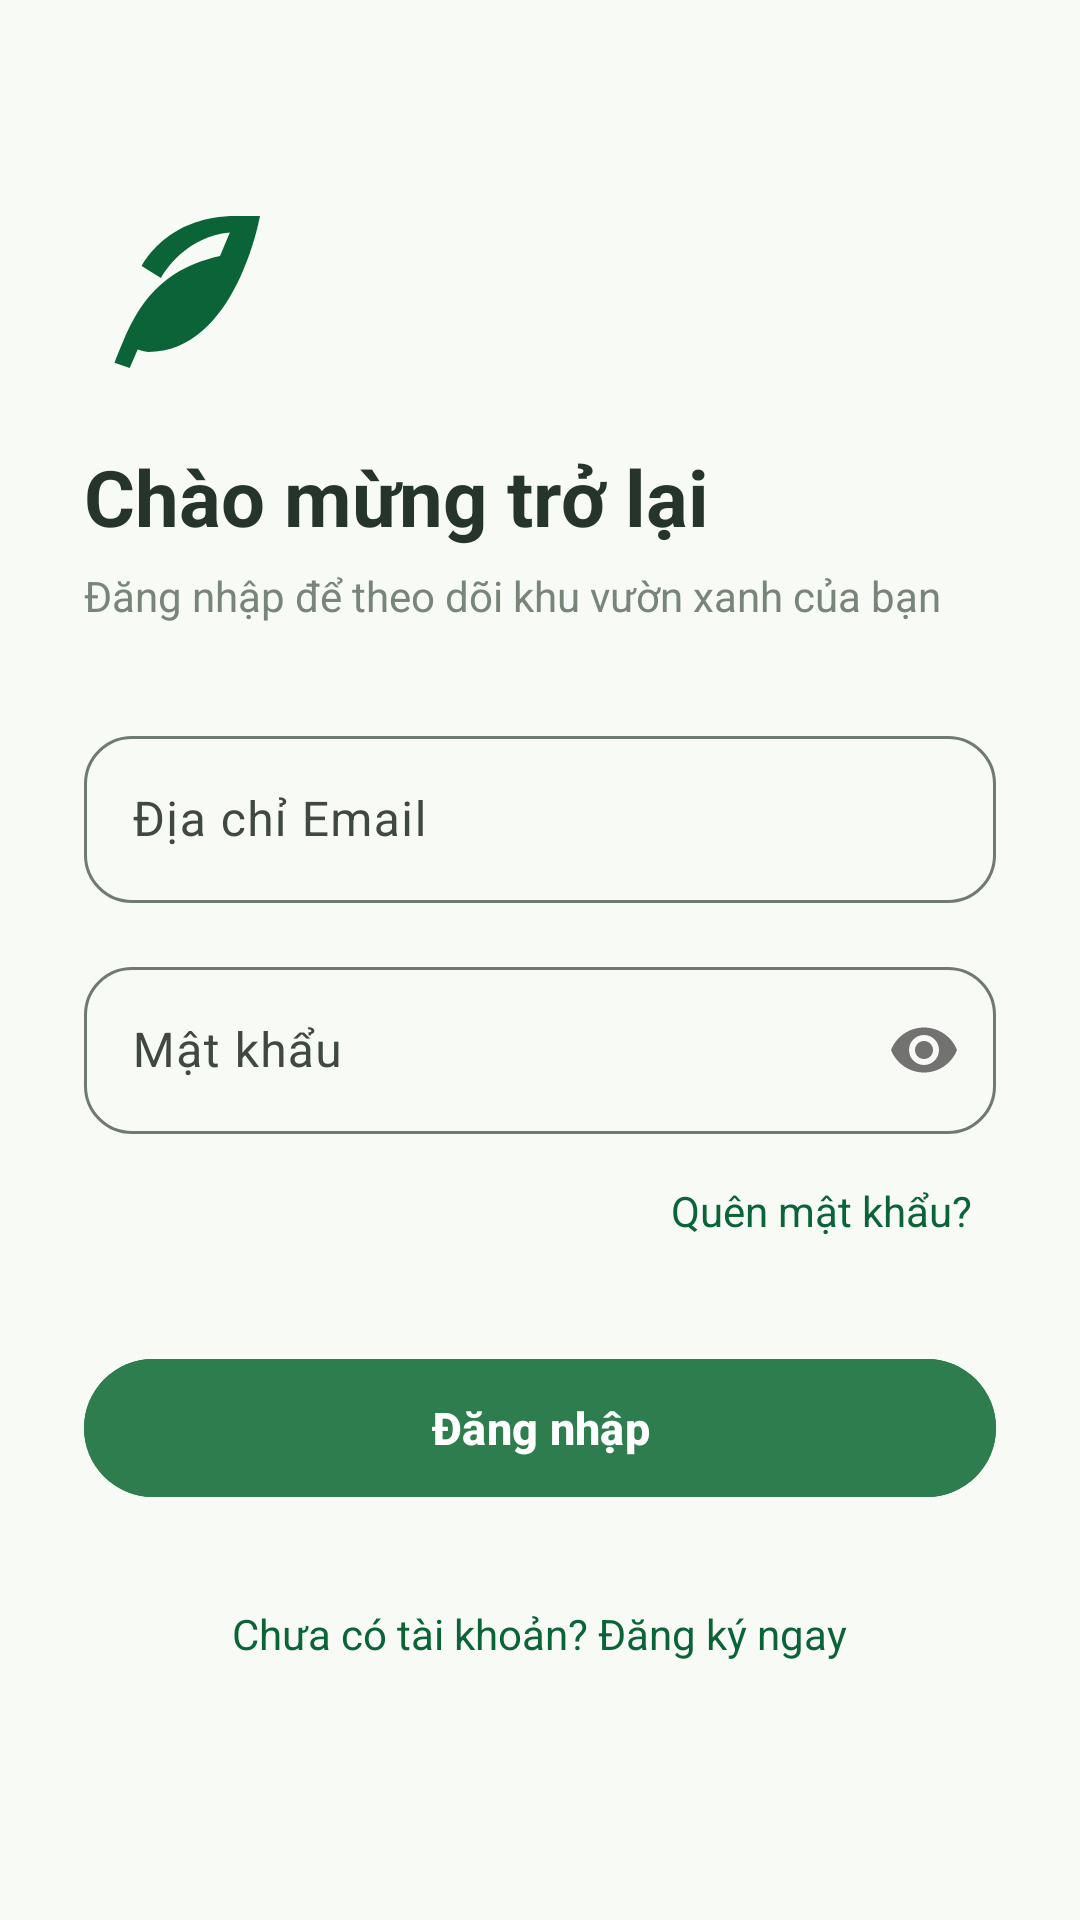

Icons on this 1080×1920 Android screen, each with its box as (x1, y1, x2, y2):
leaf: (114, 216, 260, 368)
